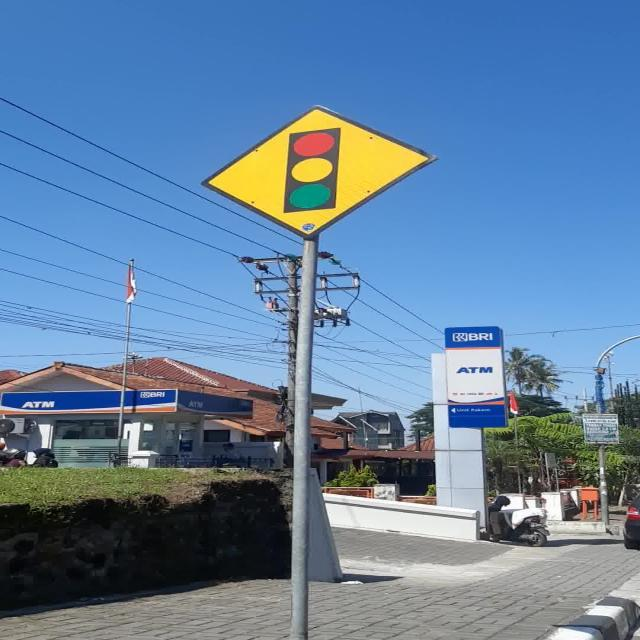Lampu Lalu Lintas: (200, 105, 438, 239)
